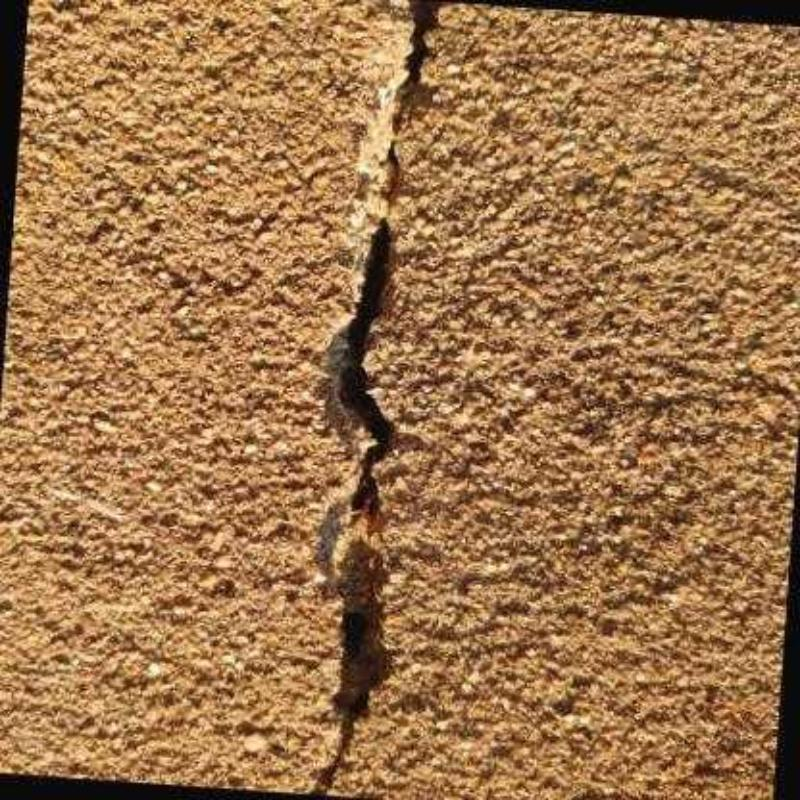pothole: (315, 0, 437, 796)
